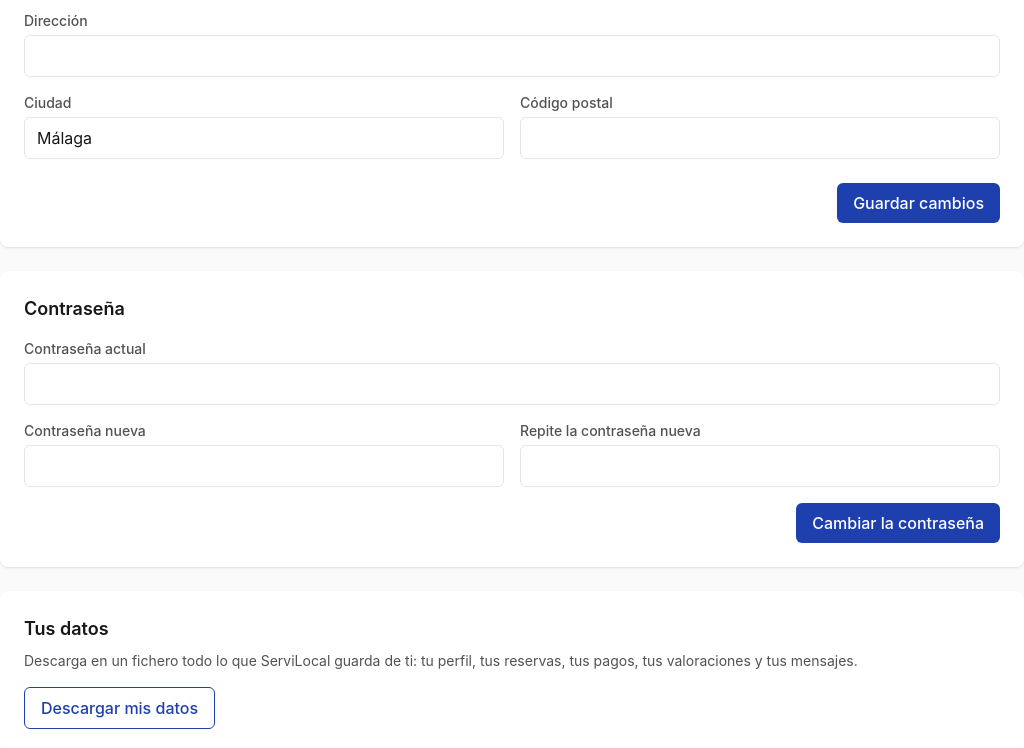
Scenario: Mi perfil › la contraseña › con la actual equivocada, lo dice sin echarle de la sesión
The image size is (1024, 748).
(page scrolled)
In the password field labelled "Contraseña actual": (512, 384) [24,363,1000,405], type "NoEsEsta1!"
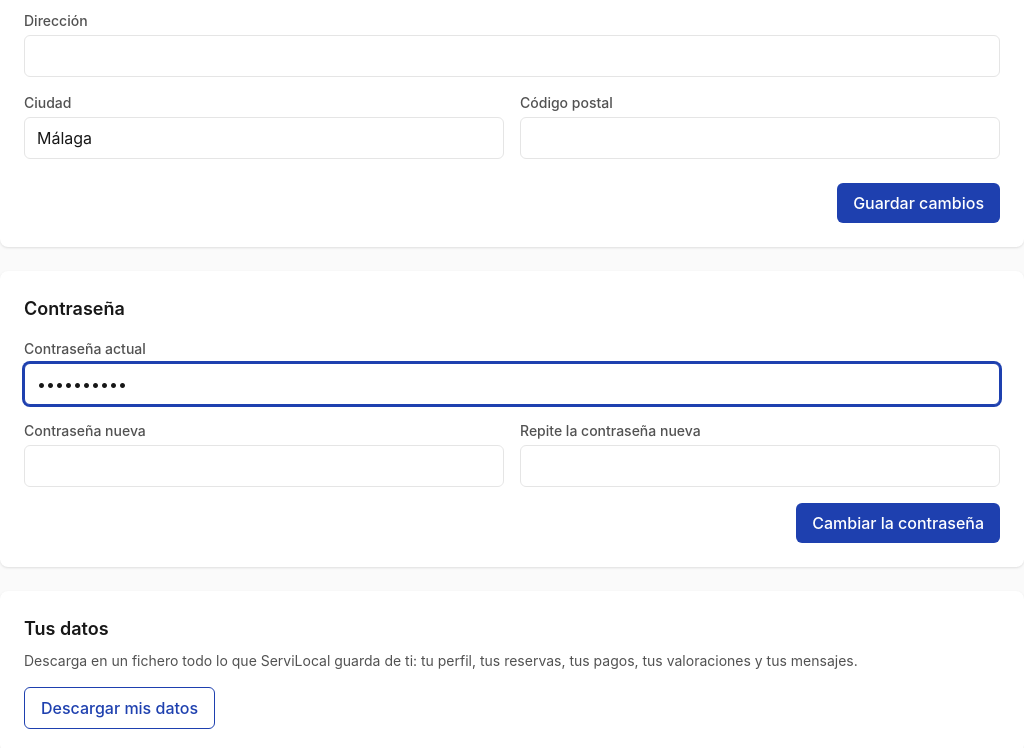
In the password field labelled "Contraseña nueva": (264, 466) [24,445,504,487], type "Nueva12345!"
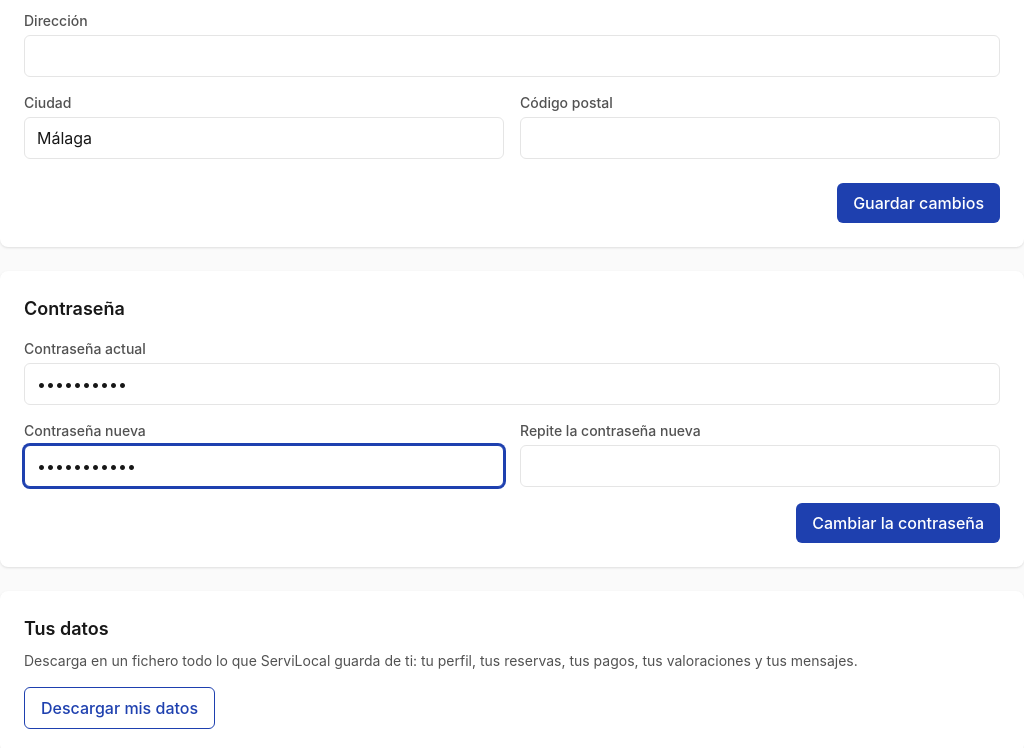
In the password field labelled "Repite la contraseña nueva": (760, 466) [520,445,1000,487], type "Nueva12345!"
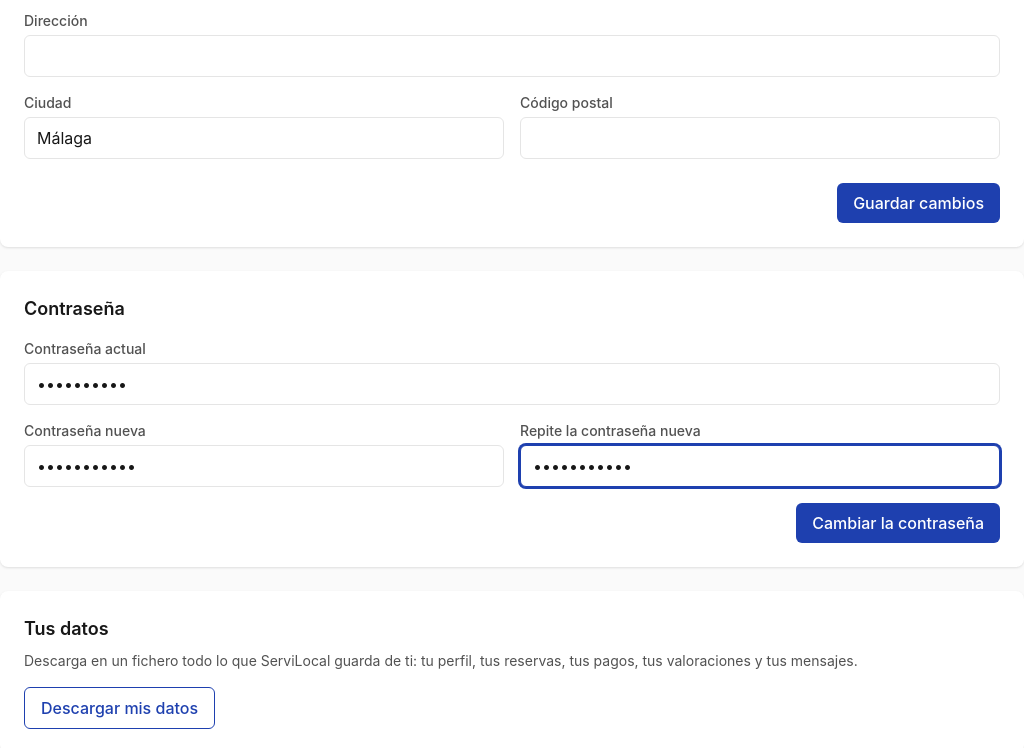
Click the button "Cambiar la contraseña": (898, 523) [796,503,1000,543]
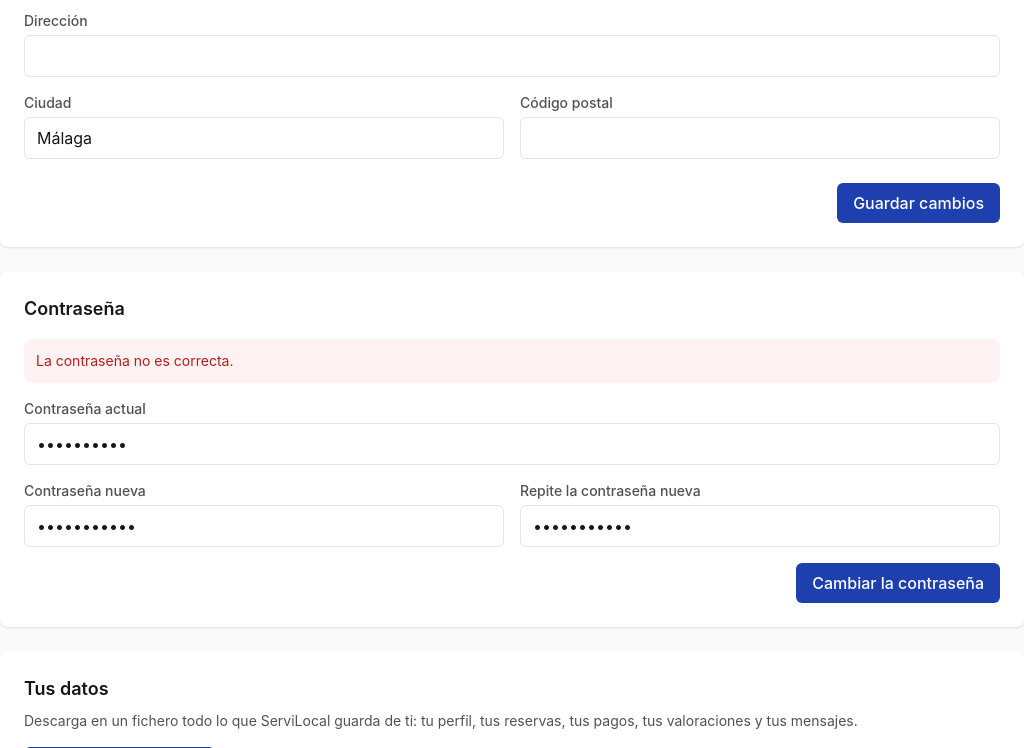
Check: the message reads "La contraseña no es correcta.", box [36,352,233,369]
